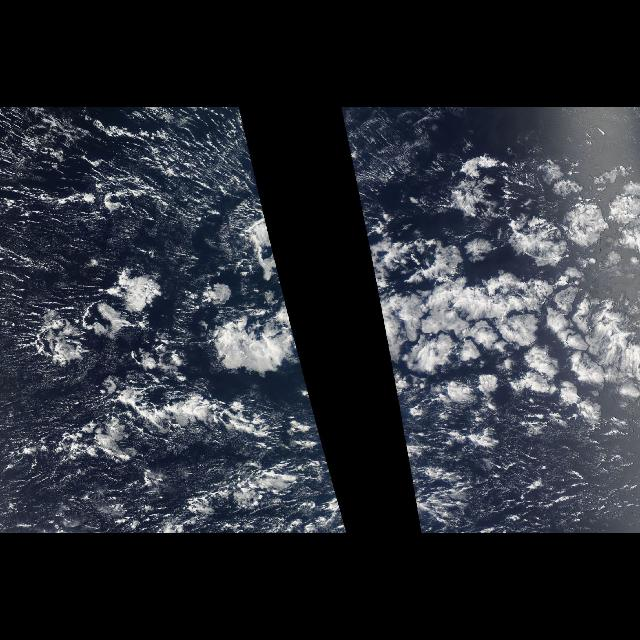Fish: (100, 385, 270, 441), (160, 461, 300, 512)
Flower: (422, 139, 640, 441), (26, 272, 188, 374)
Sugar: (15, 107, 251, 250), (479, 416, 637, 532)
